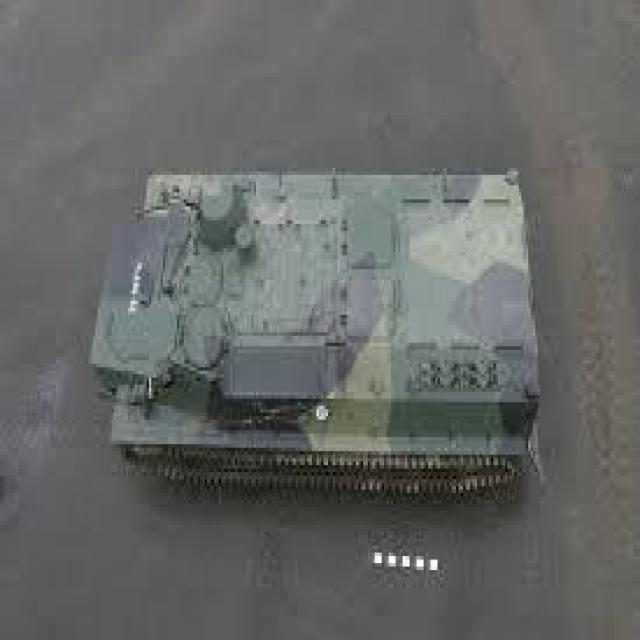MIL_MBT: (97, 140, 536, 514)
